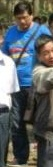boots: (5, 159, 27, 167), (0, 162, 14, 167)
